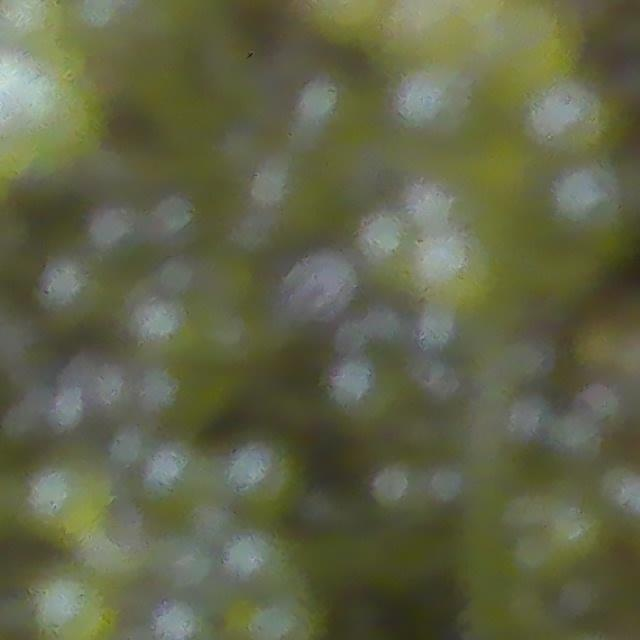SeaGrape: (222, 438, 305, 519), (30, 458, 109, 535), (551, 163, 626, 237), (32, 575, 115, 640), (231, 585, 326, 640), (220, 523, 295, 592), (0, 0, 66, 49), (357, 211, 412, 268)
